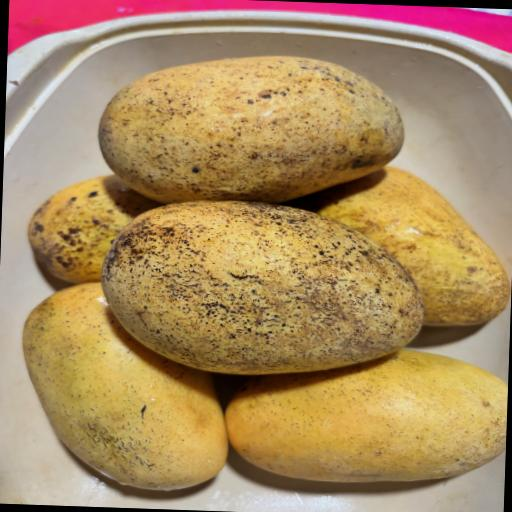fruit: (88, 177, 432, 385), (90, 36, 411, 210), (10, 264, 238, 502), (218, 333, 508, 501), (278, 132, 512, 333), (22, 166, 154, 286)
